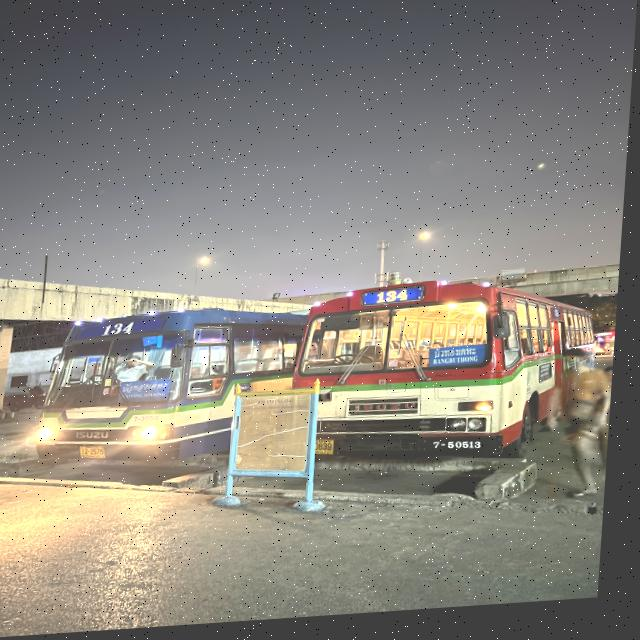BMTA-bus: (295, 279, 599, 476), (41, 306, 313, 472)
Bus-Line-Number: (104, 323, 141, 339), (377, 296, 419, 310)
Destination-Sign-Normal: (430, 350, 492, 374), (123, 382, 177, 407)
